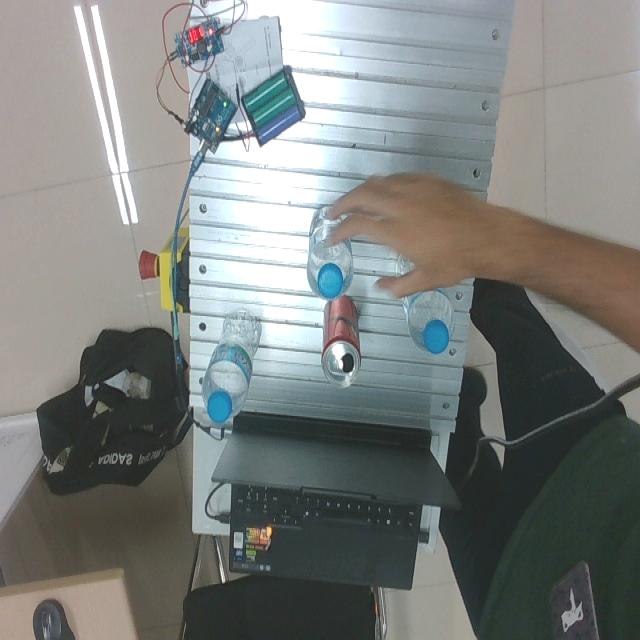coca: (321, 296, 361, 388)
lavie: (202, 309, 261, 424), (394, 254, 455, 354), (306, 207, 355, 300)
